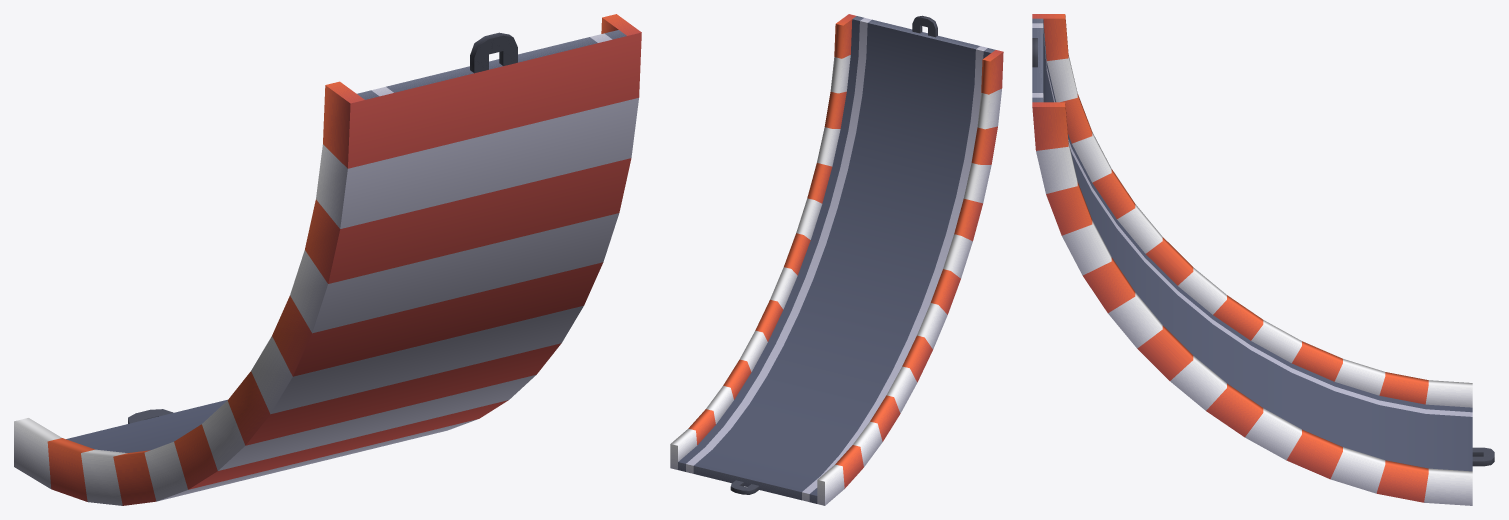
File: track-road-wide-straight-bend-large.glb
3 renders of one model, left to right at view 1: azimuth 30°, elevation 25°; view 2: azimuth 150°, elevation 25°; view 3: azimuth 270°, elevation 25°, orthographic. The views are drawn at different scales.
Visible parts, largest first — view 1: track-road-wide-straight-bend-large; view 2: track-road-wide-straight-bend-large; view 3: track-road-wide-straight-bend-large.
Part boxes in pixels (<box>): track-road-wide-straight-bend-large: <box>14,14,641,505</box>; track-road-wide-straight-bend-large: <box>670,14,1003,505</box>; track-road-wide-straight-bend-large: <box>1032,14,1494,505</box>.
Size of the model in its own units: 2 by 4.2 by 4.2.
1 material, 1 textured.
